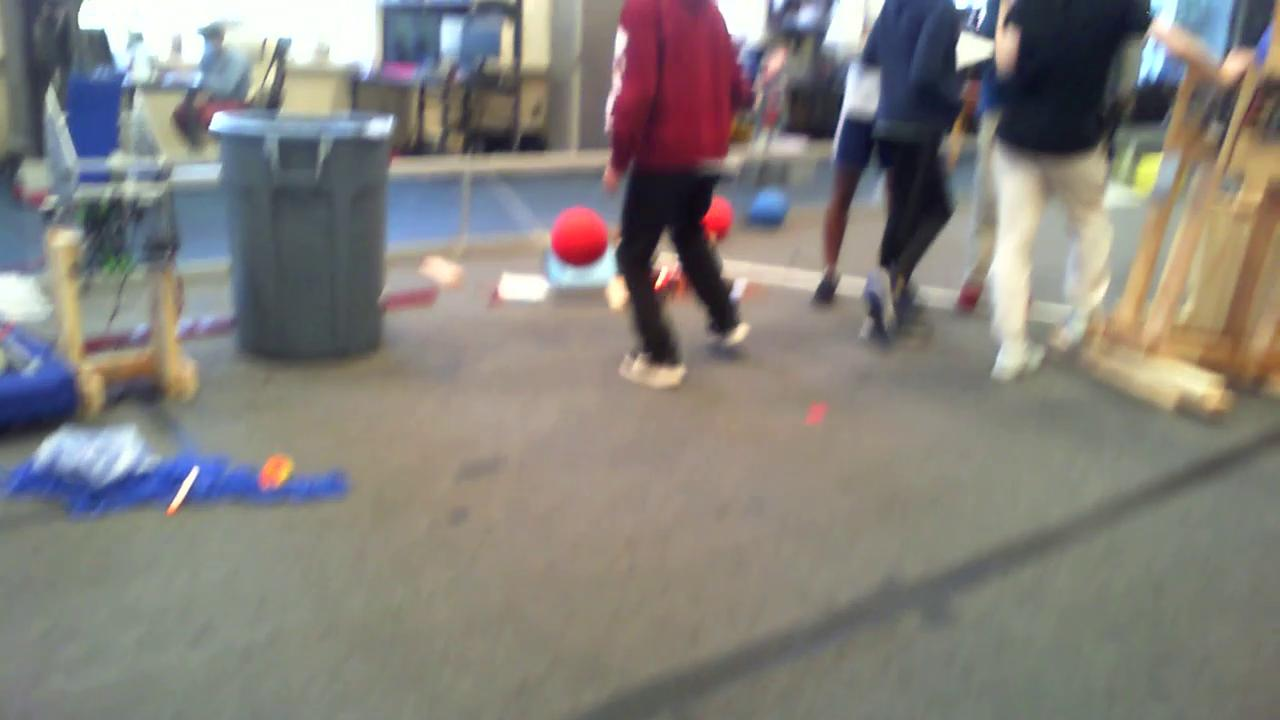Red_Ball: (550, 205, 613, 267), (702, 191, 733, 243)
